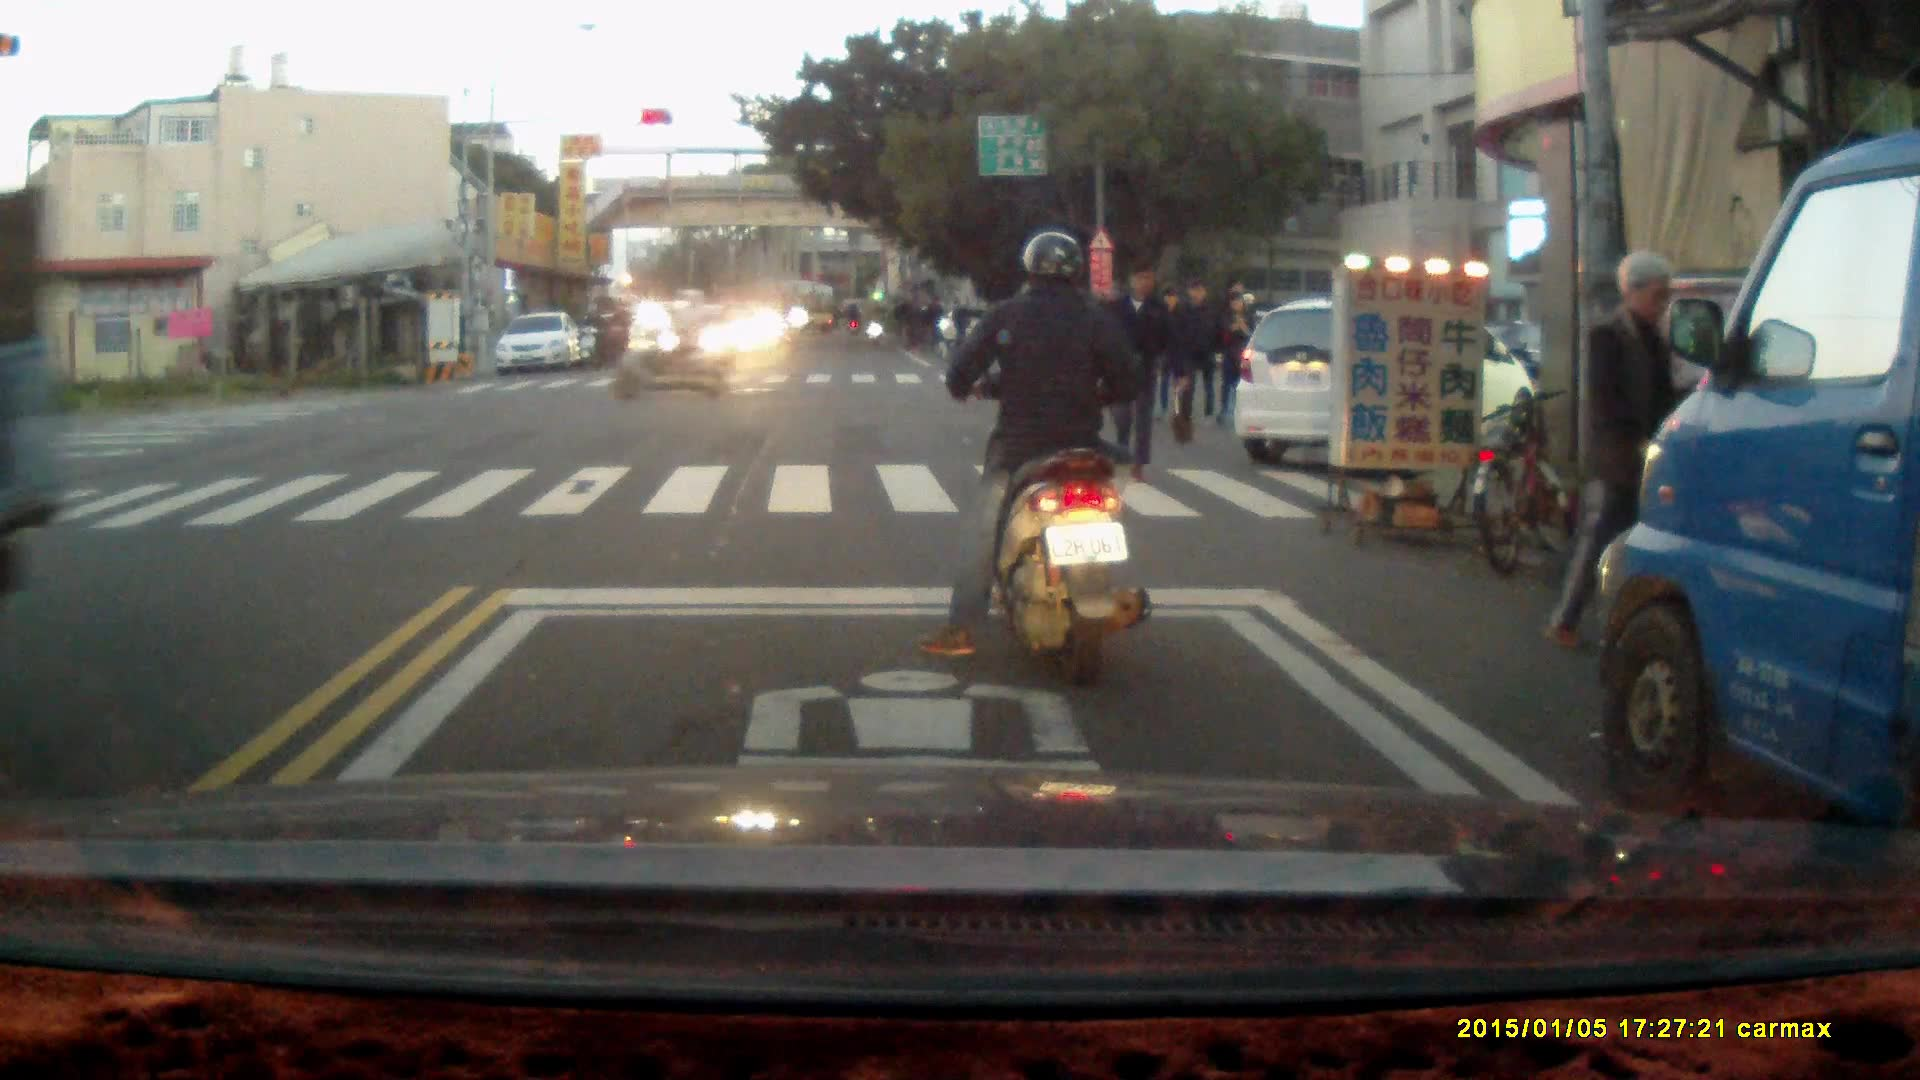pedestrian: (1547, 248, 1718, 652), (1098, 259, 1186, 487), (1149, 284, 1191, 424), (1218, 290, 1260, 426), (1178, 279, 1216, 422)
rider: (917, 227, 1151, 693), (619, 284, 735, 404), (600, 296, 635, 367), (577, 301, 612, 372), (862, 296, 889, 353)
vehicle: (1596, 120, 1920, 901), (1229, 303, 1533, 462), (493, 311, 584, 378)
